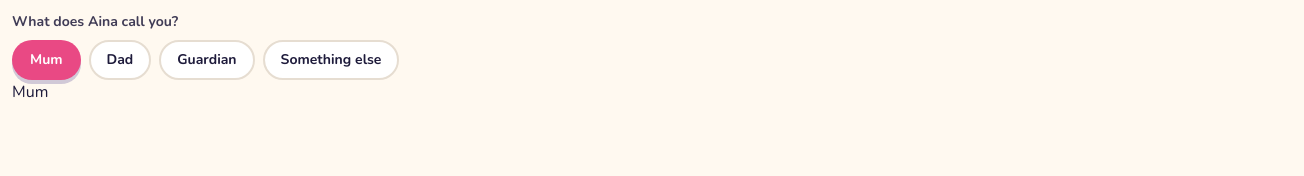
it: a parent connecting › lets a parent say who they are, in their own words if they like
The width and height of the screenshot is (1304, 176).
Expected: the text "What does Aina call you?" is shown, [12,12,178,32]
Click the radio button labelled "Dad": [120, 60] box [88,40,151,80]
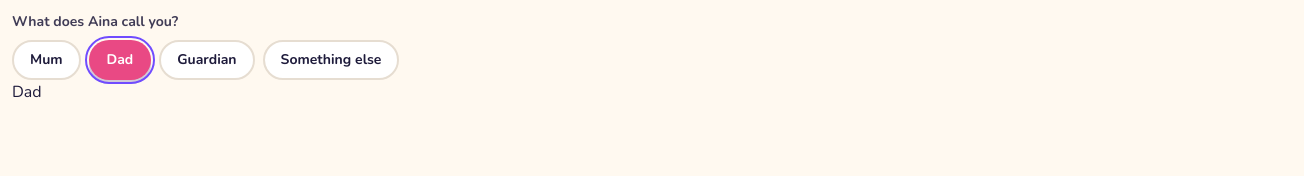
Result: the text "Dad" is shown at [12,81,42,103]
Click the radio button labelled "Something else": [331, 60] box [262,40,399,80]
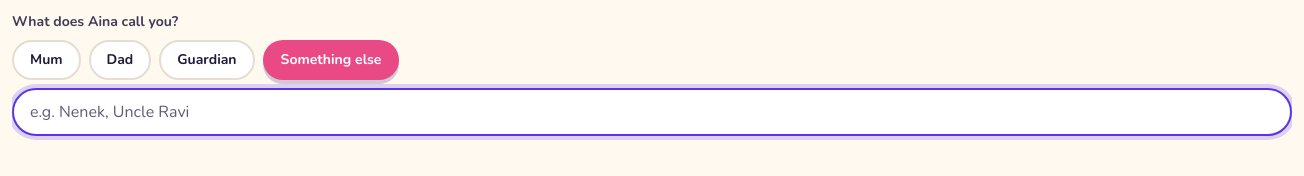
In the field named "What they call you": [652, 112] box [12,88,1292,136], type "Nenek"
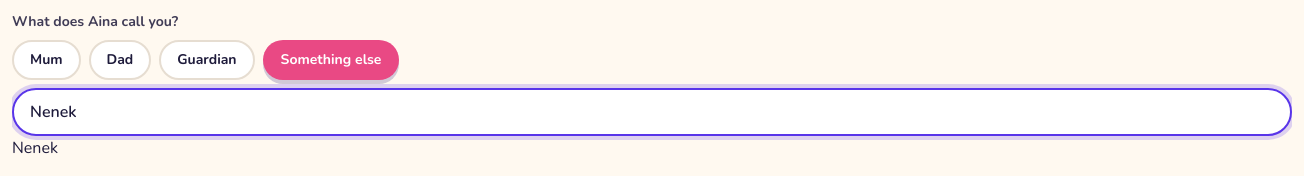
Result: the text "Nenek" is shown at [12,137,58,159]
